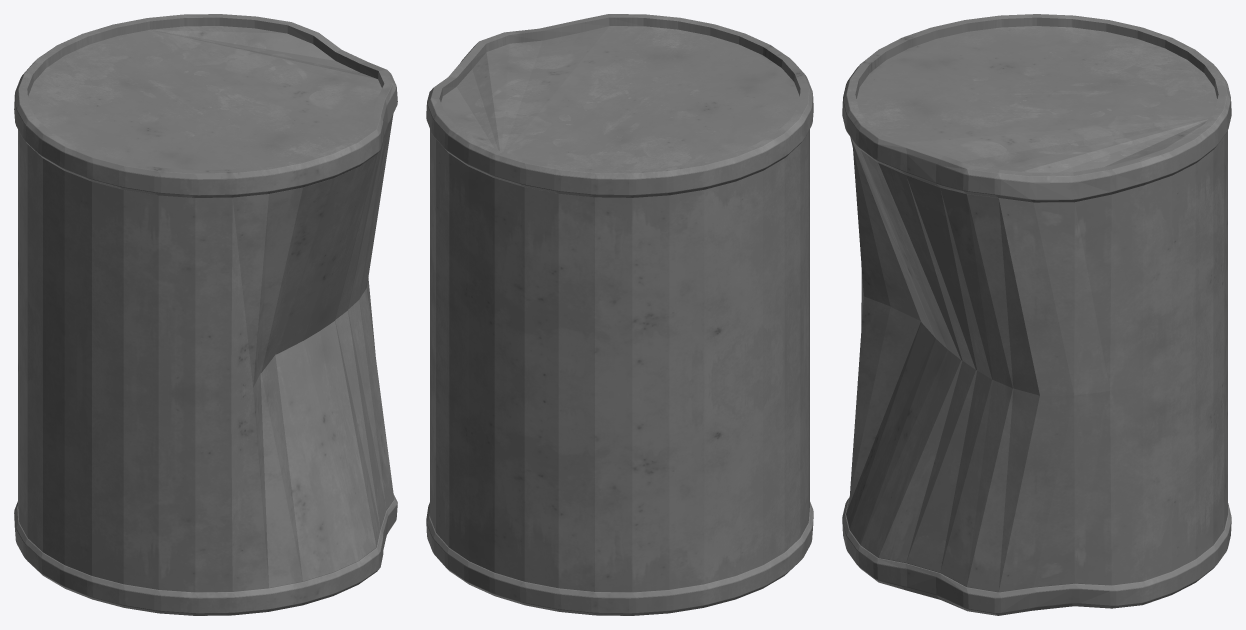
Rendered from Dented Can Grey.fbx.
The picture shows the model from 3 angles, left to right: view 1: azimuth 30°, elevation 25°; view 2: azimuth 150°, elevation 25°; view 3: azimuth 270°, elevation 25°; orthographic projection.
Visible parts, largest first — view 1: Dented Can Grey; view 2: Dented Can Grey; view 3: Dented Can Grey.
Part boxes in pixels (box(x1,y1,x2,y2)): Dented Can Grey: box(14, 14, 397, 615); Dented Can Grey: box(426, 14, 813, 615); Dented Can Grey: box(842, 14, 1231, 615).
Bounding box in the file's own units: 12.32 × 15.68 × 12.45.
1 material, 1 textured.
